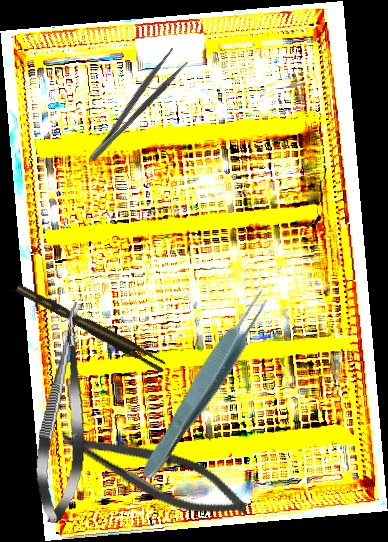Dressing Forceps: (78, 47, 190, 164)
Micro Scissor: (52, 418, 256, 530), (30, 299, 100, 526)
Tissue Forceps: (133, 284, 280, 486), (15, 276, 168, 378)
